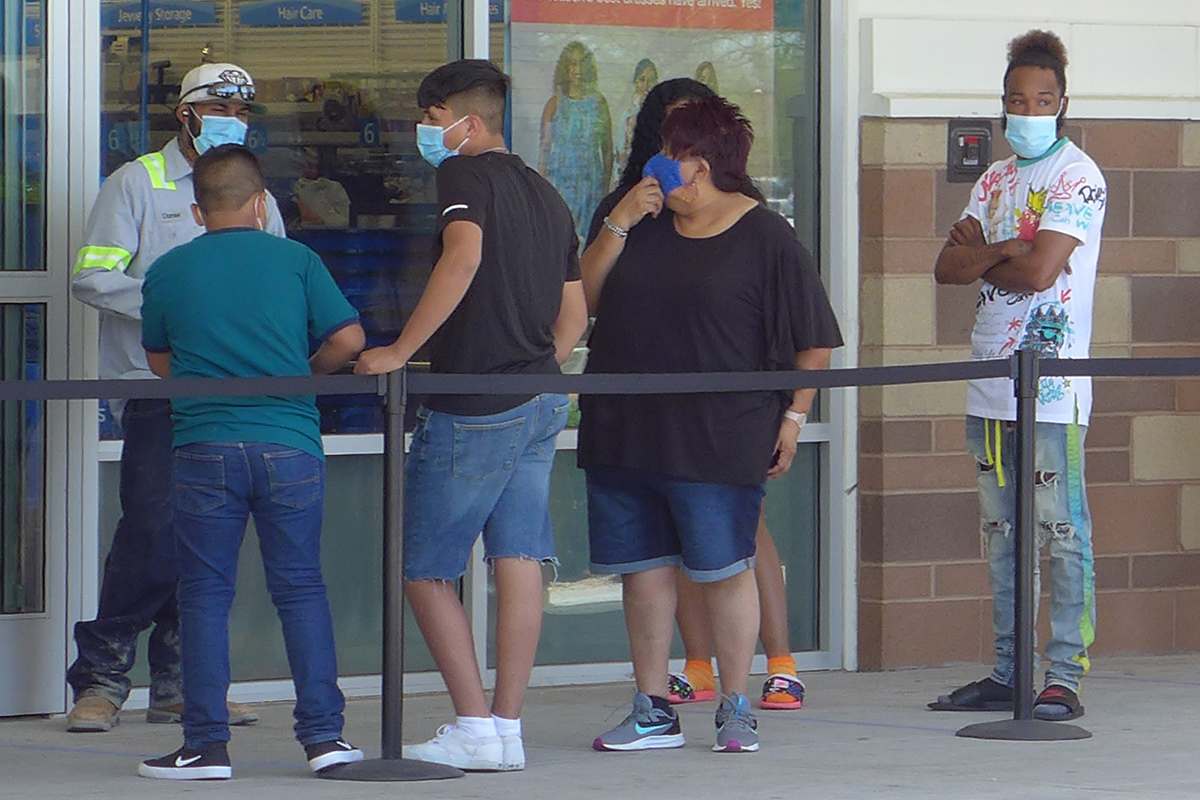Person: (581, 127, 804, 700), (154, 177, 367, 745), (395, 82, 563, 750), (949, 36, 1099, 722)
